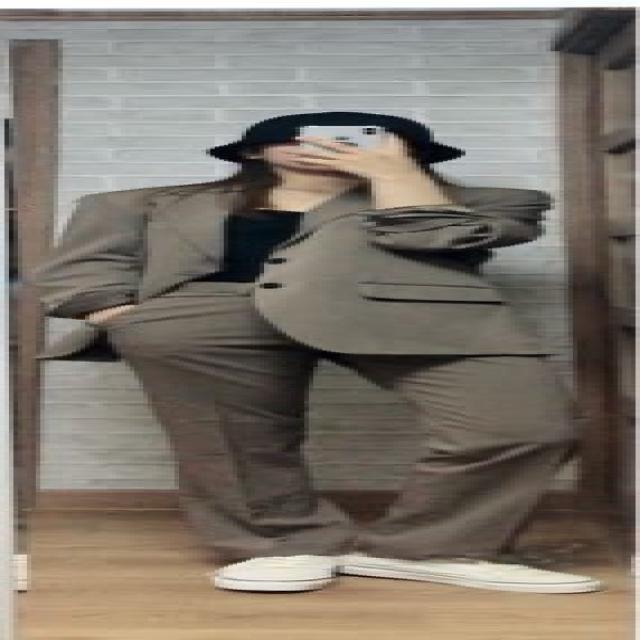blazer: (34, 191, 542, 359)
slacks: (105, 282, 556, 562)
